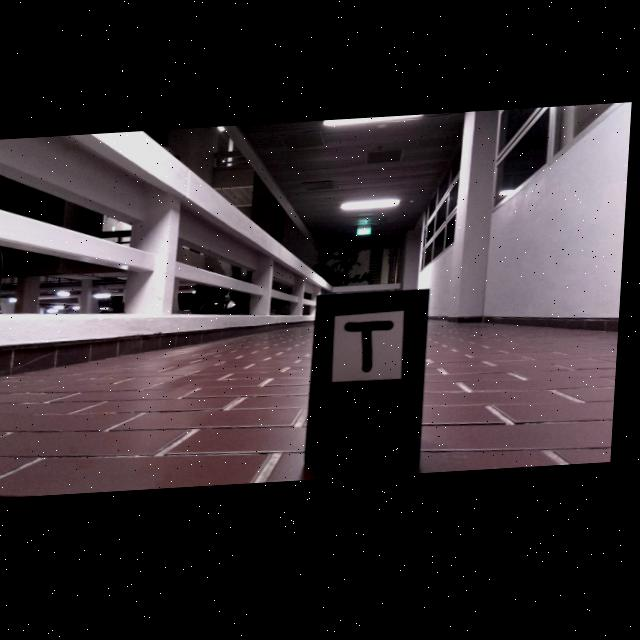T: (348, 326, 398, 377)
